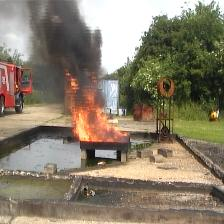fire: (75, 108, 124, 143)
smoke: (40, 10, 96, 65)
